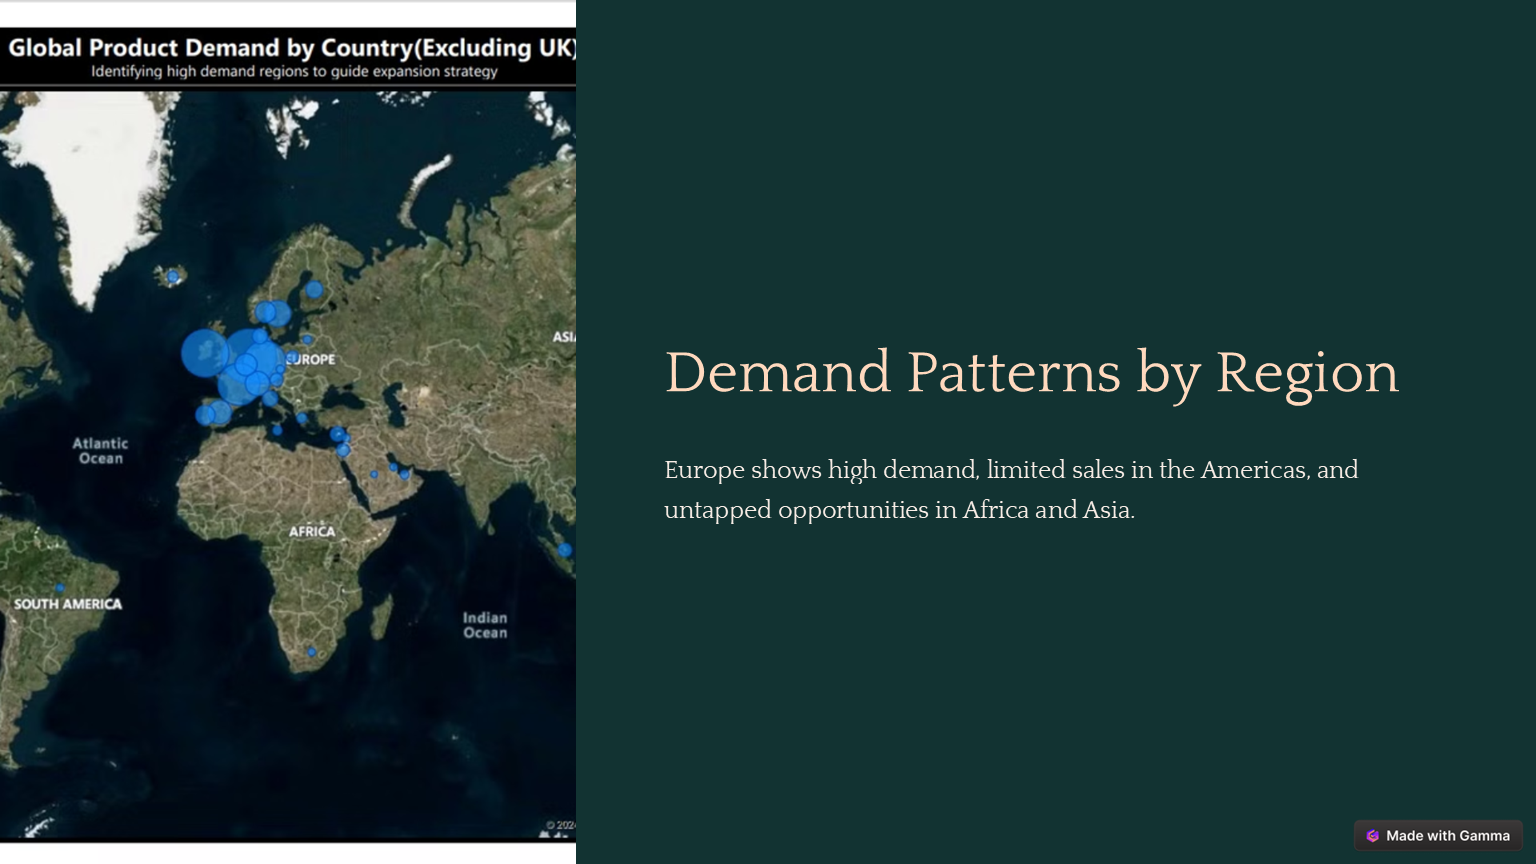

This screenshot's page, from the dashboard's own definition file:
{"tool":"powerbi","page":{"name":"Question 4","canvas":[1280,720],"ordinal":3},"visuals":[{"type":"map","title":"Global Product Demand by Country(Excluding UK)","fields":{"Category":["cleaned_datafinal1.Country"],"Size":["Sum(cleaned_datafinal1.Quantity)"]},"box":[9.6,0,1270.7,720.4],"z":0}]}

Visuals, with their boxes in screenshot pixels (x1, y1, x2, y2), scaled from the page's 1280x720 canvas onto the 1536x864 screenshot:
"Global Product Demand by Country(Excluding UK)" map: [12, 0, 1535, 863]
